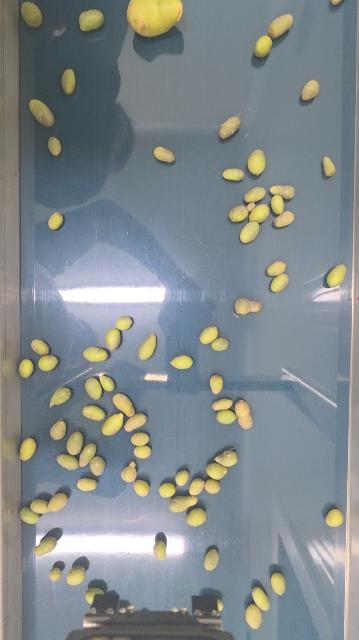Baby Potato: (124, 0, 186, 39), (29, 97, 56, 128), (267, 12, 295, 39), (233, 398, 254, 430), (20, 0, 43, 29), (217, 114, 242, 140), (167, 494, 199, 514), (101, 411, 125, 437), (78, 8, 104, 32), (112, 392, 136, 418), (245, 601, 266, 630), (137, 333, 158, 361), (33, 534, 58, 557), (239, 219, 261, 245), (327, 262, 348, 289), (247, 148, 267, 176), (234, 297, 263, 316), (228, 202, 253, 224), (251, 586, 272, 612), (123, 412, 148, 433), (49, 386, 72, 408), (248, 201, 270, 224), (300, 78, 321, 102), (82, 345, 110, 363), (270, 182, 297, 200), (78, 442, 97, 467), (84, 376, 103, 401), (254, 34, 273, 59), (66, 430, 84, 456), (48, 491, 70, 512), (60, 68, 77, 95), (215, 448, 239, 467), (243, 185, 267, 204), (270, 571, 288, 596), (185, 507, 207, 527), (206, 461, 229, 480), (272, 210, 296, 228), (19, 436, 36, 461), (81, 404, 106, 421), (199, 324, 219, 345), (66, 565, 86, 586), (270, 272, 290, 293), (154, 145, 176, 164), (49, 419, 67, 441), (266, 259, 288, 277), (105, 328, 122, 351), (121, 460, 138, 483), (214, 408, 237, 425), (204, 548, 220, 572), (326, 507, 344, 528), (57, 453, 79, 470), (170, 354, 193, 370), (38, 354, 58, 372), (19, 506, 39, 524), (30, 338, 50, 356), (270, 193, 286, 215), (89, 456, 106, 476), (48, 210, 64, 231), (209, 374, 225, 395), (211, 397, 235, 411), (321, 155, 336, 177), (189, 477, 206, 496), (98, 373, 115, 392), (222, 168, 245, 182), (18, 358, 34, 378), (77, 477, 98, 492), (158, 481, 176, 498), (211, 335, 229, 352), (133, 478, 150, 496), (30, 497, 48, 514), (47, 136, 62, 156), (130, 431, 150, 446), (115, 314, 132, 331), (204, 478, 221, 495), (132, 445, 152, 459), (175, 469, 190, 486), (154, 540, 166, 559), (49, 567, 62, 582), (85, 588, 96, 605), (330, 0, 352, 6), (216, 597, 225, 611)
